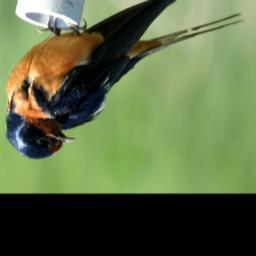Swallow: (3, 0, 244, 163)
